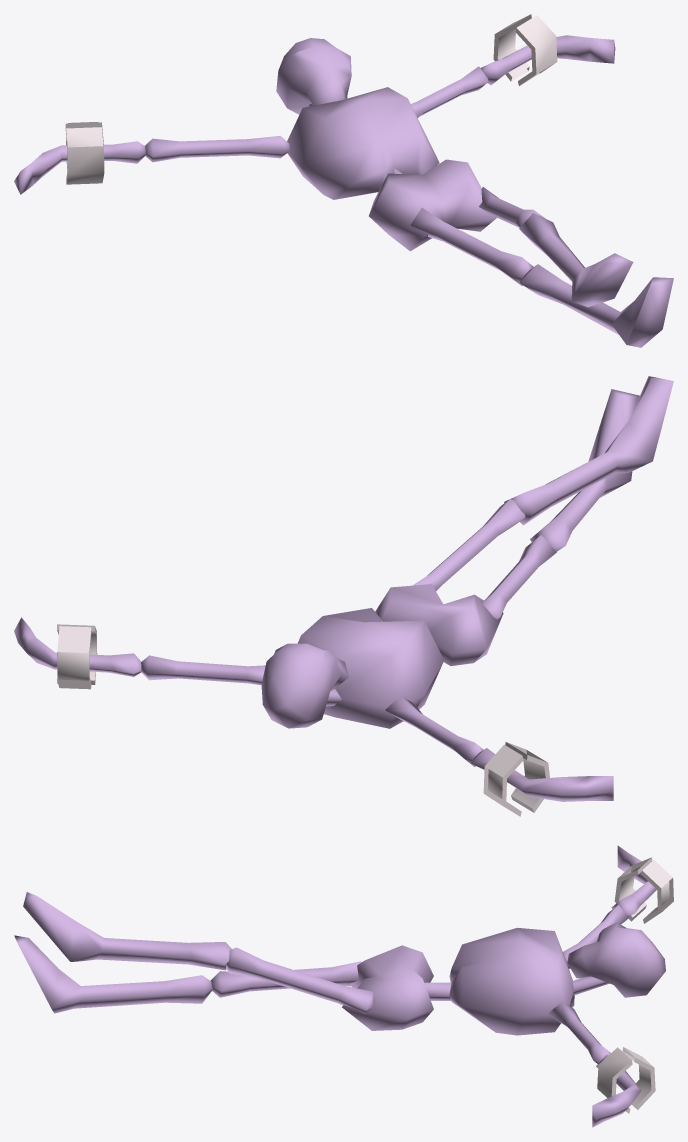
3 renders of one model, top to bottom at view 1: azimuth 30°, elevation 25°; view 2: azimuth 150°, elevation 25°; view 3: azimuth 270°, elevation 25°, orthographic. The views are drawn at different scales.
Visible parts, largest first — view 1: Object44; view 2: Object44; view 3: Object44.
Part boxes in pixels (x1=…): Object44: x1=14, y1=14, x2=673, y2=347; Object44: x1=14, y1=376, x2=673, y2=816; Object44: x1=14, y1=845, x2=673, y2=1127.
Bounding box in the file's own units: 19054 × 3894 × 20164.
